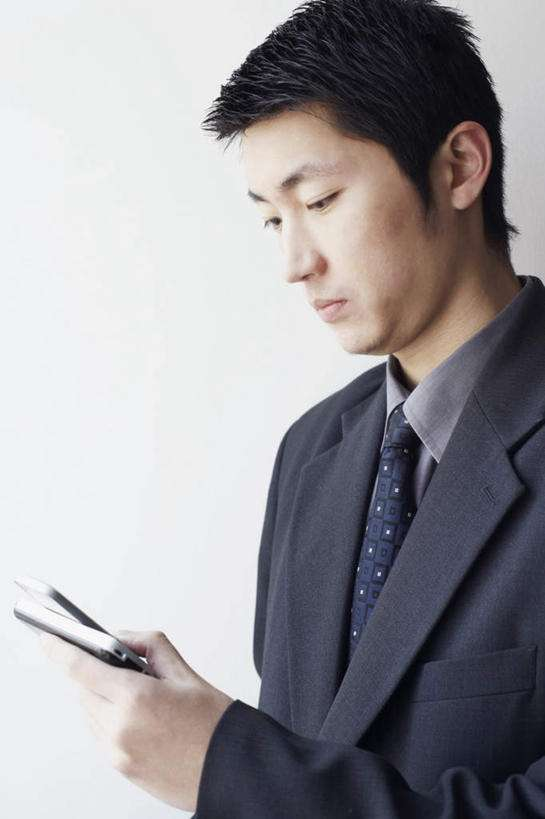reading: (7, 566, 237, 817)
